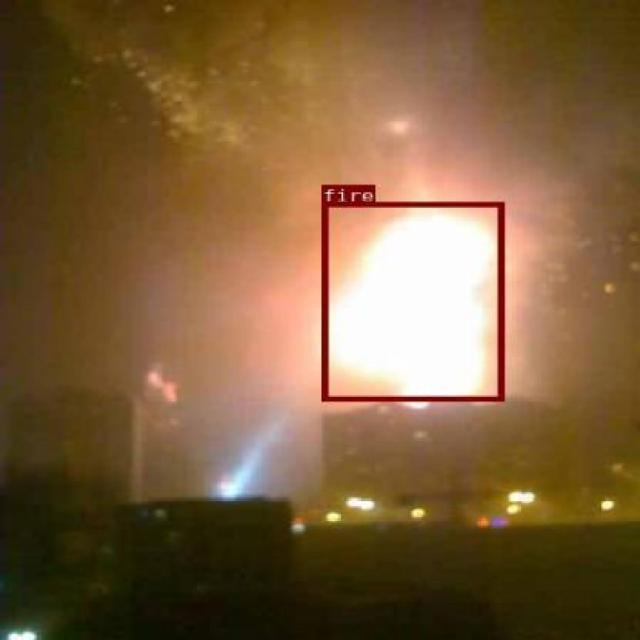Fire: (322, 202, 504, 400)
